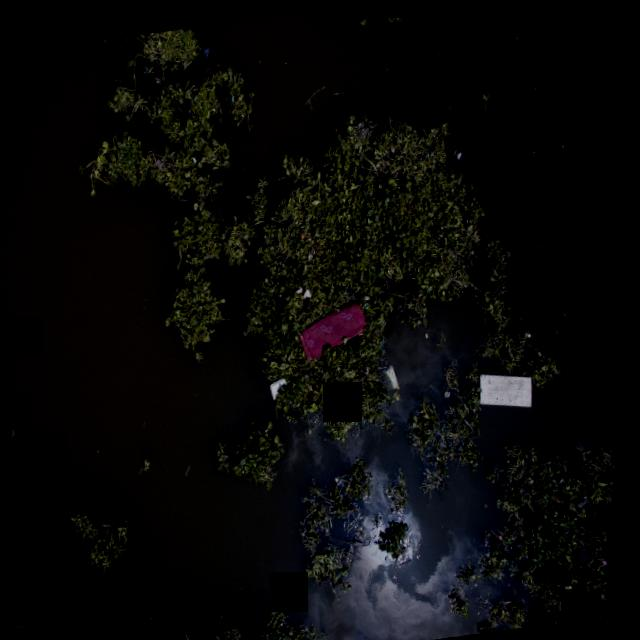plastic: (284, 287, 383, 363), (469, 352, 549, 419), (266, 367, 301, 404), (385, 357, 409, 396), (186, 454, 202, 477), (296, 279, 316, 297), (429, 375, 447, 393), (453, 143, 467, 158), (577, 433, 592, 447), (580, 490, 594, 503), (526, 323, 535, 334), (605, 550, 614, 559), (191, 152, 199, 162), (147, 29, 156, 34)
